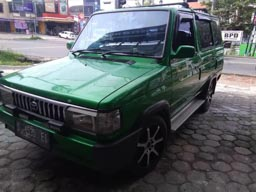plat: (13, 119, 52, 152)
